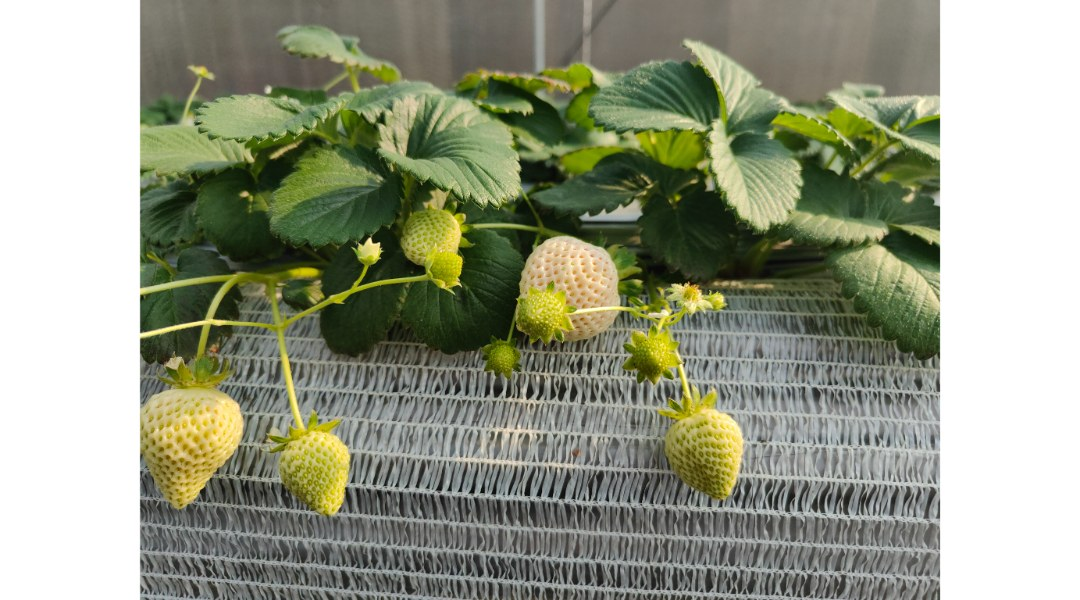berry: (131, 353, 240, 517), (515, 225, 622, 351), (650, 386, 752, 517), (259, 409, 349, 521), (396, 195, 478, 266), (605, 321, 679, 390), (429, 251, 469, 295), (482, 341, 519, 379)
flower: (651, 269, 735, 335), (343, 227, 387, 266)
strain: (274, 336, 306, 438), (116, 271, 229, 296), (136, 319, 273, 336), (352, 277, 420, 307), (291, 288, 342, 325), (675, 349, 691, 402)
